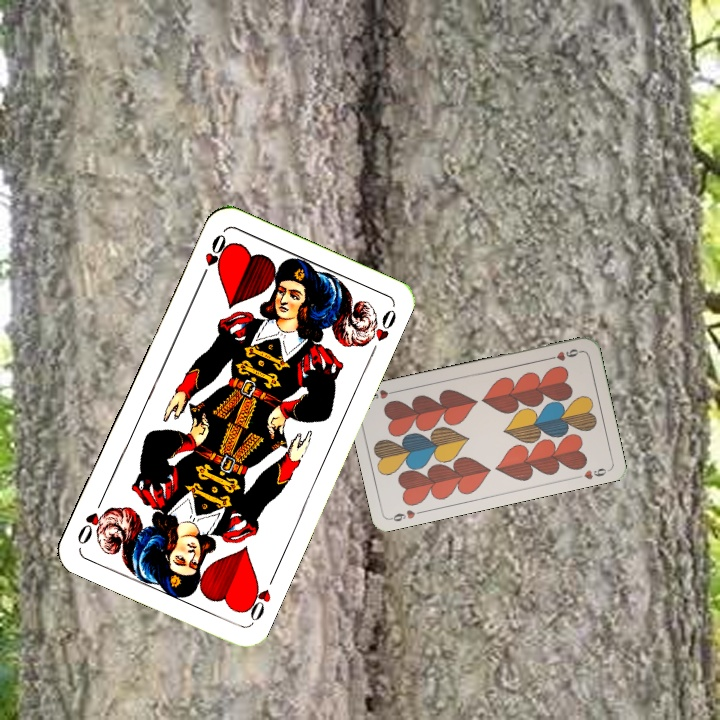H9: (386, 506, 427, 524), (544, 345, 584, 363)
HO: (239, 569, 279, 625), (196, 230, 229, 285)
